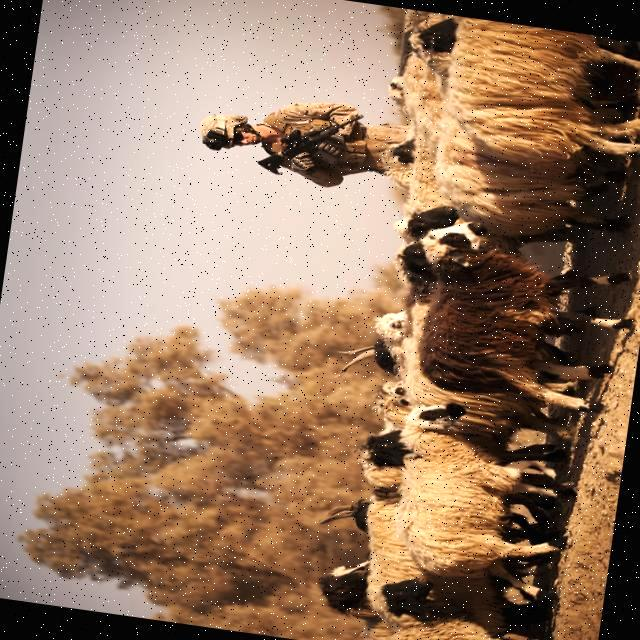sheep: (391, 408, 555, 581)
